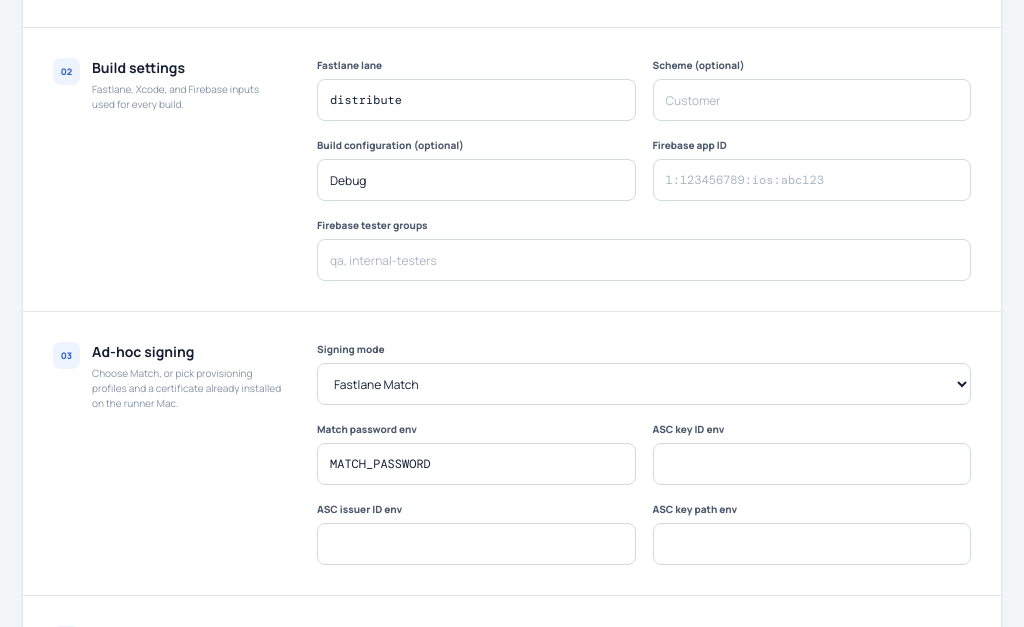
Scenario: ProjectFormPage manual signing › imports a .mobileprovision file, refreshes the list, and selects the imported profile
(page scrolled)
Select "Manual signing" in the dropdown labelled "Signing mode": (644, 384) [317, 364, 971, 406]
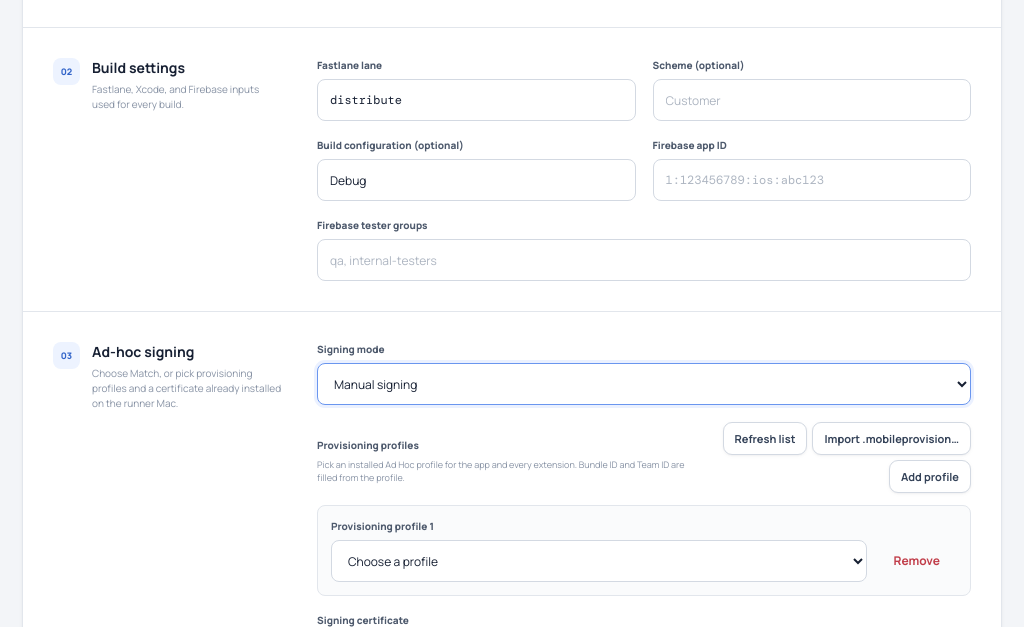
Click the button "Import .mobileprovision…": (892, 439) [812, 422, 971, 456]
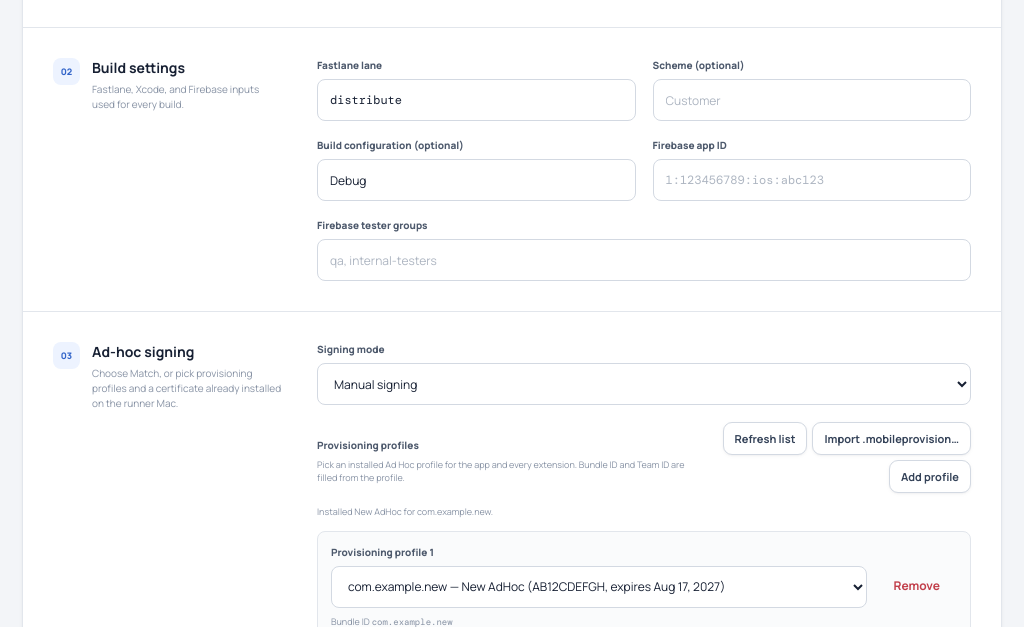
Expected: the dropdown labelled "Provisioning profile 1" shows "com.example.new — New AdHoc (AB12CDEFGH, expires Aug 17, 2027)", [331, 566, 866, 608]
Expected: the message reads "Installed New AdHoc for com.example.new.", [317, 506, 493, 518]
